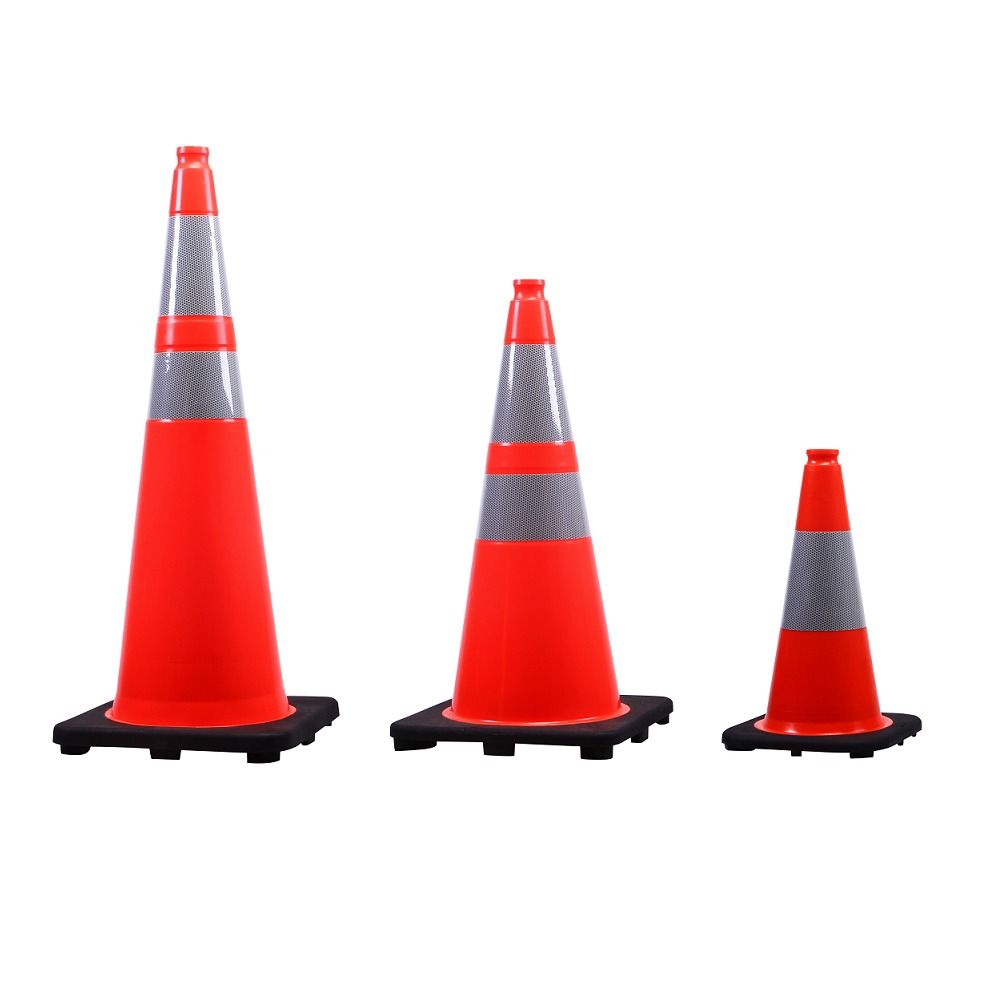cones: (75, 136, 347, 776), (403, 272, 680, 768), (725, 445, 924, 771)
